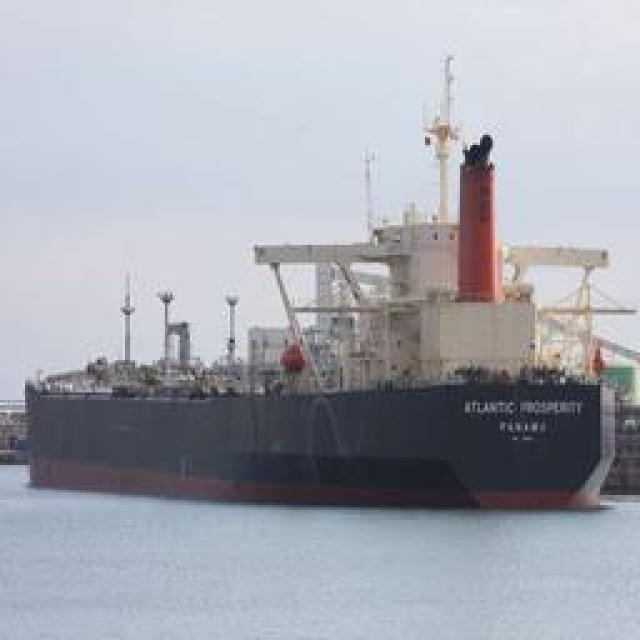CIV_Ship: (17, 210, 625, 508)
